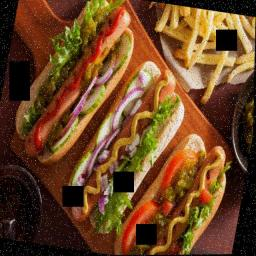hotdog: (63, 54, 203, 251), (2, 0, 144, 180), (114, 124, 246, 255)
